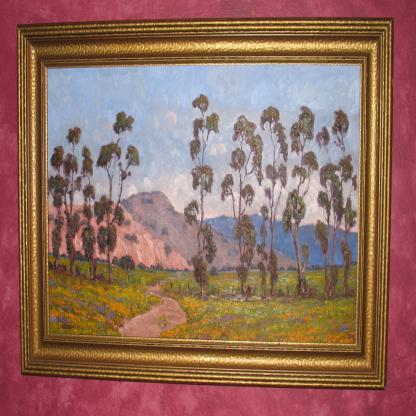picture frame: (23, 10, 408, 398)
